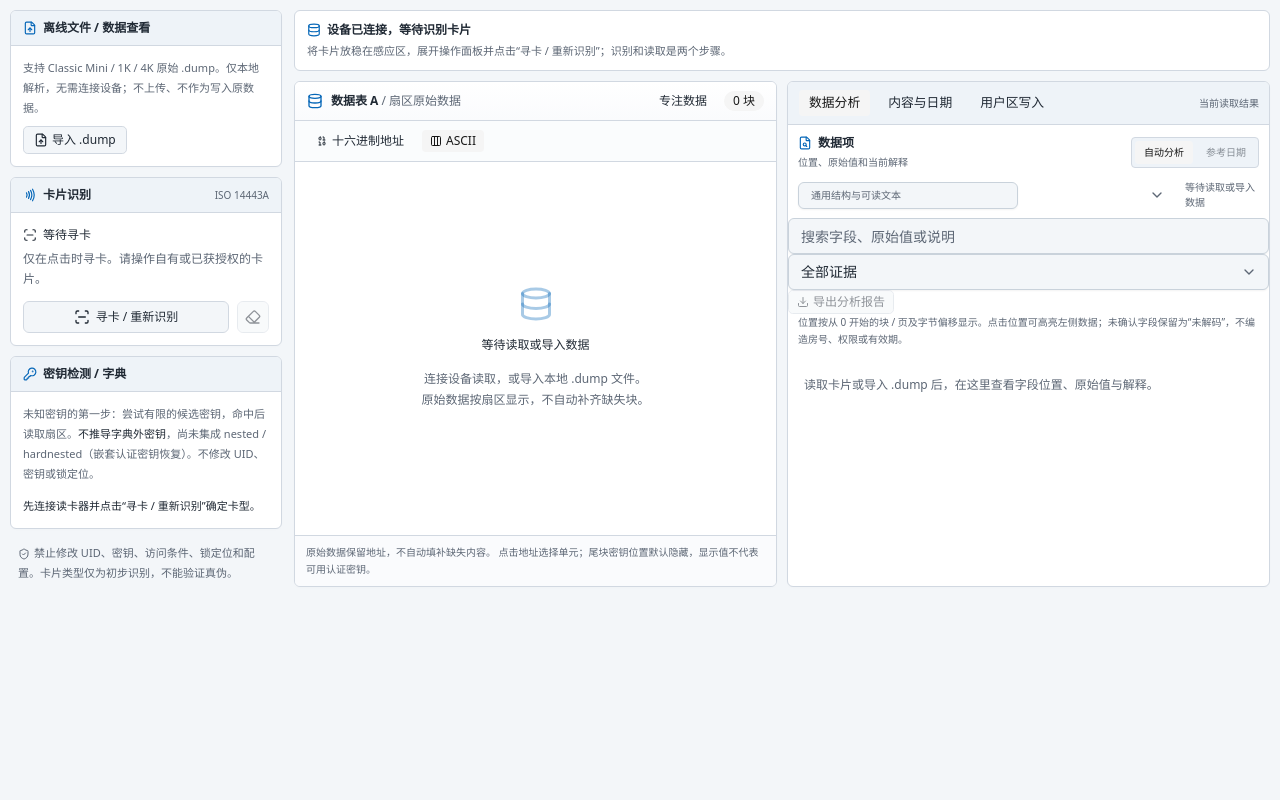
Test: card panel desktop UI › shows unsupported cards as identification-only with no read form
Click the button "寻卡 / 重新识别": (126, 317) [23, 301, 229, 333]
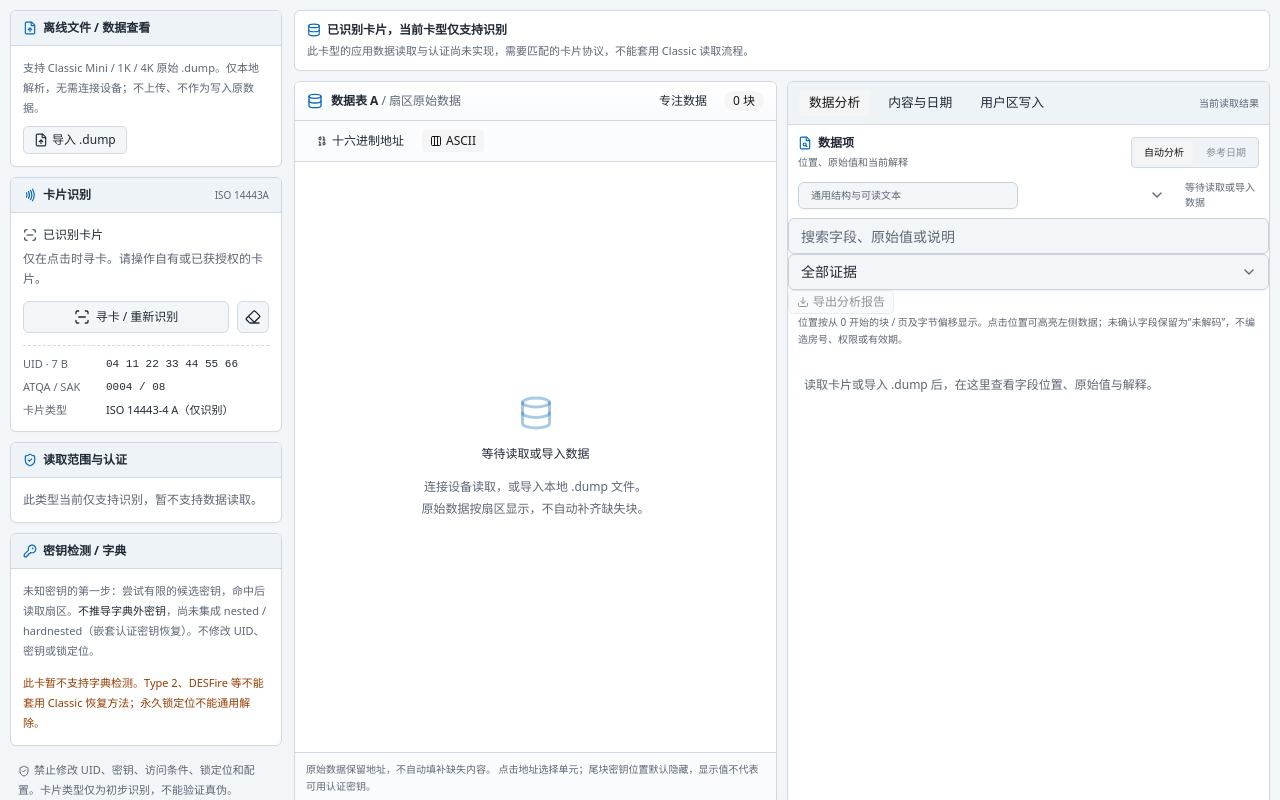
Check: the text "此类型当前仅支持识别，暂不支持数据读取。" is shown, box [23, 491, 263, 508]
